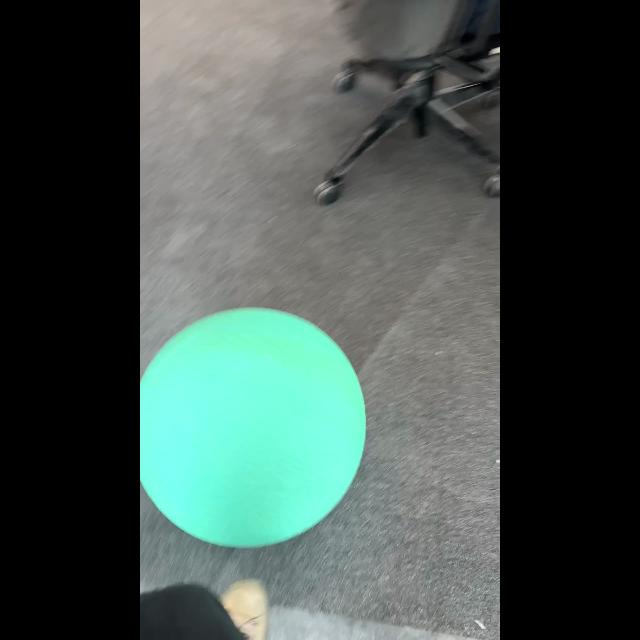ALGAE: (141, 306, 367, 548)
